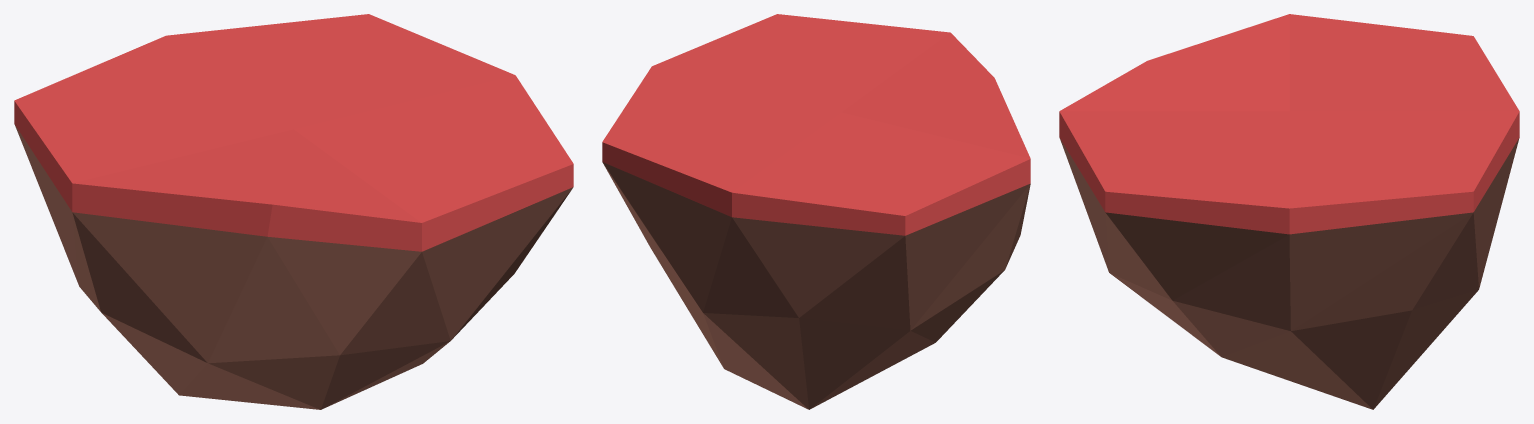
Rendered from 01_01Island_Red.fbx.
3 views of the same model, side by side, from view 1: azimuth 30°, elevation 25°; view 2: azimuth 150°, elevation 25°; view 3: azimuth 270°, elevation 25° (orthographic). The views are drawn at different scales.
Parts seen in each view (by area): view 1: Icosphere.022; view 2: Icosphere.022; view 3: Icosphere.022.
Part boxes in pixels (x1=…): Icosphere.022: x1=14, y1=14, x2=573, y2=409; Icosphere.022: x1=602, y1=14, x2=1030, y2=409; Icosphere.022: x1=1059, y1=14, x2=1519, y2=409.
Size of the model in its own units: 200 by 127 by 200.
